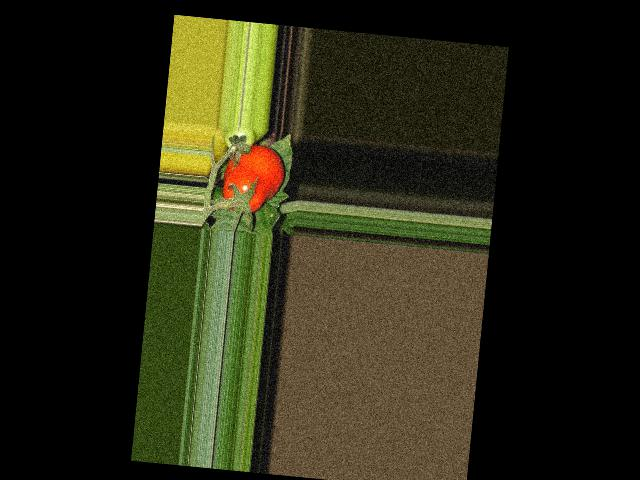tomato: (220, 142, 286, 216)
